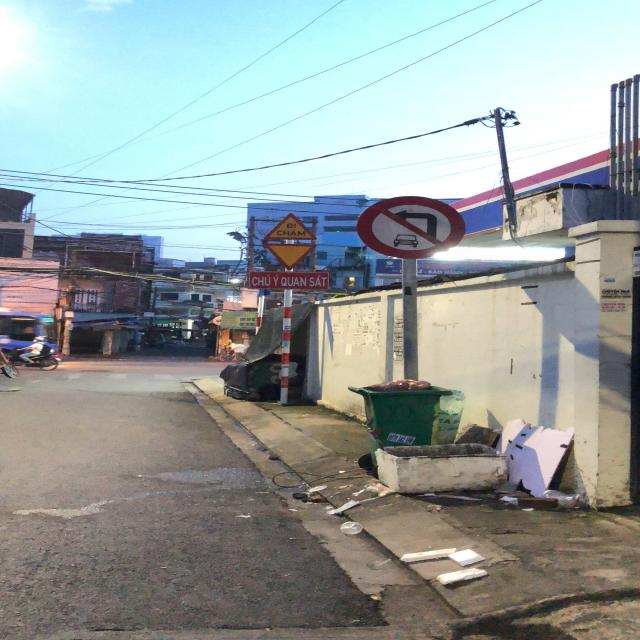Bien bao cam xe o to re trai: (359, 193, 475, 259)
Bien bao di cham: (264, 211, 322, 243)
Bien bao giao nhau voi duong uu tien: (259, 242, 322, 268)
